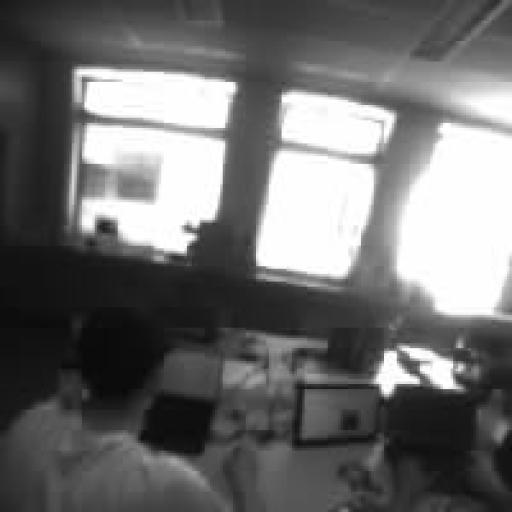human: (31, 308, 225, 511), (341, 390, 491, 511)
